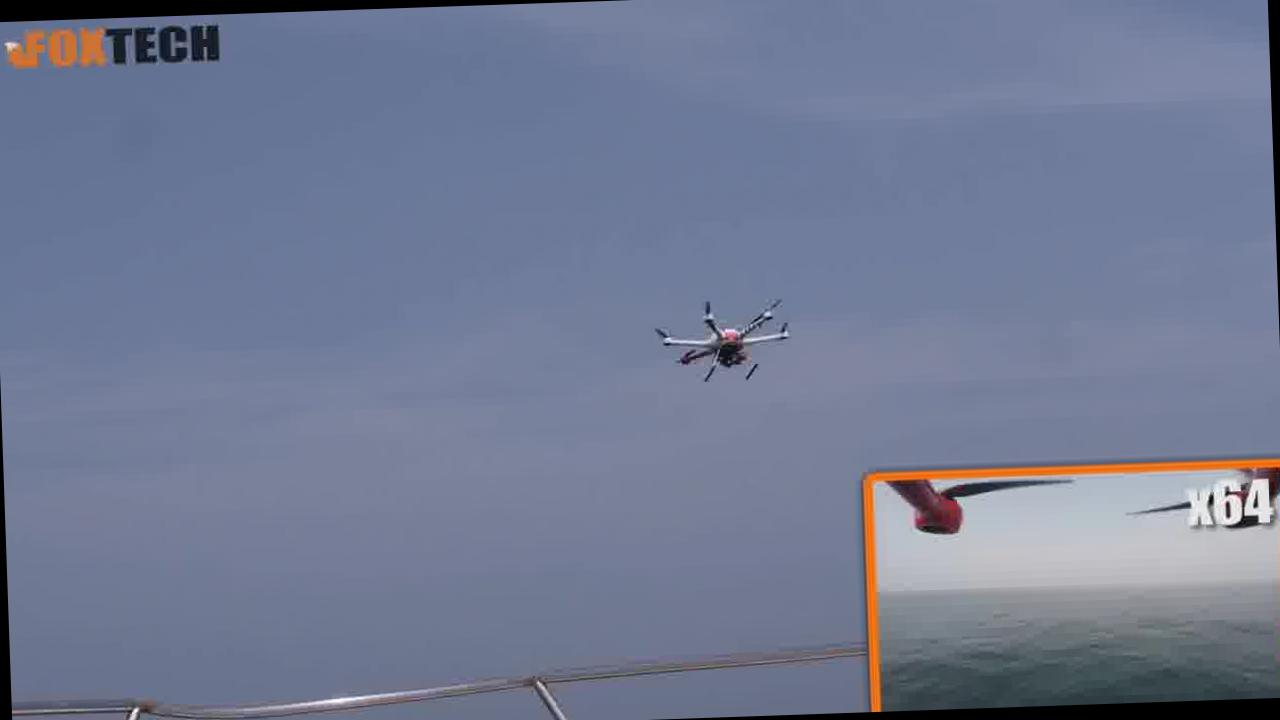drone: (648, 273, 815, 391)
